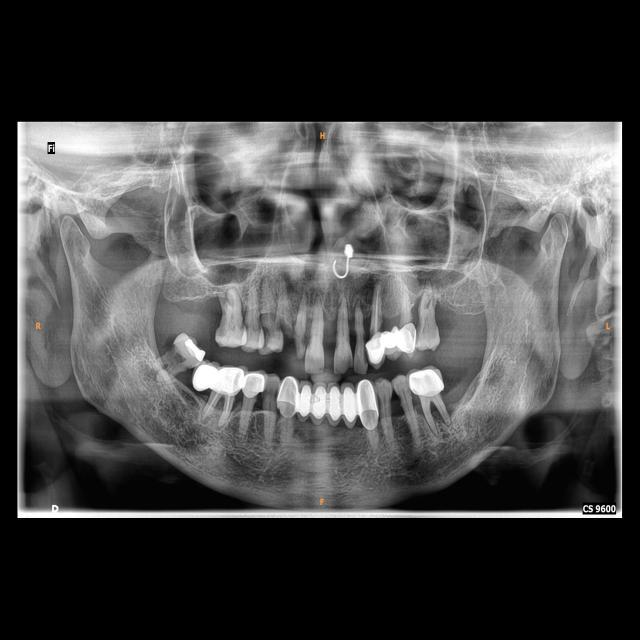dolgu: (172, 332, 212, 369)
kanal-tedavisi: (206, 390, 236, 432), (370, 286, 385, 328)
kaplama: (357, 376, 385, 436), (274, 373, 302, 420), (405, 366, 447, 396), (233, 369, 270, 399), (214, 362, 246, 396), (365, 333, 386, 362), (399, 326, 418, 354)
kopru: (287, 380, 368, 423), (183, 351, 225, 403), (374, 327, 414, 364)
